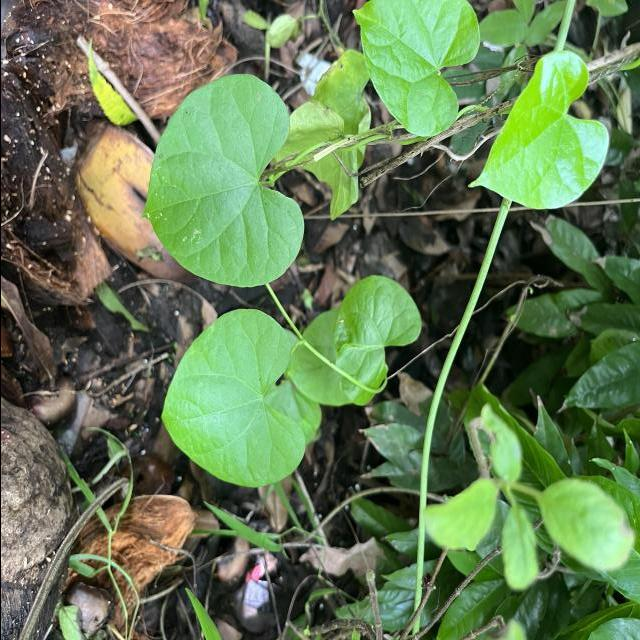Tinospora cordifolia: (137, 72, 306, 289), (157, 307, 306, 489), (464, 49, 610, 212), (348, 0, 482, 138)
